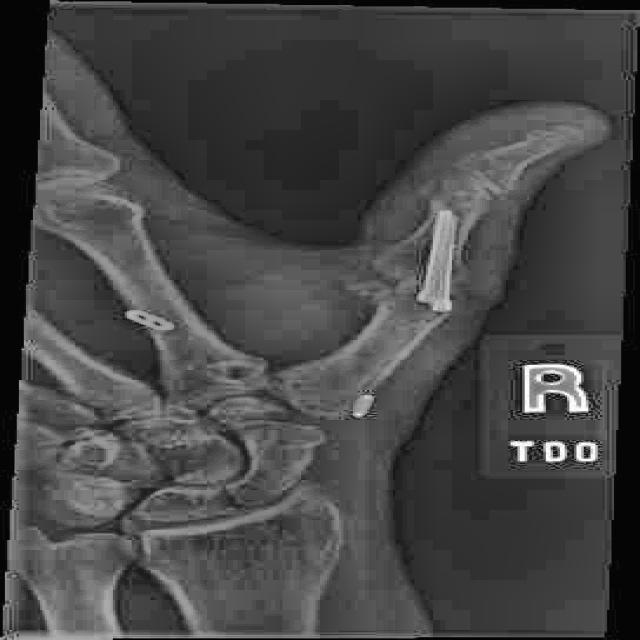fingers positive: (332, 242, 498, 347), (331, 366, 408, 416)
